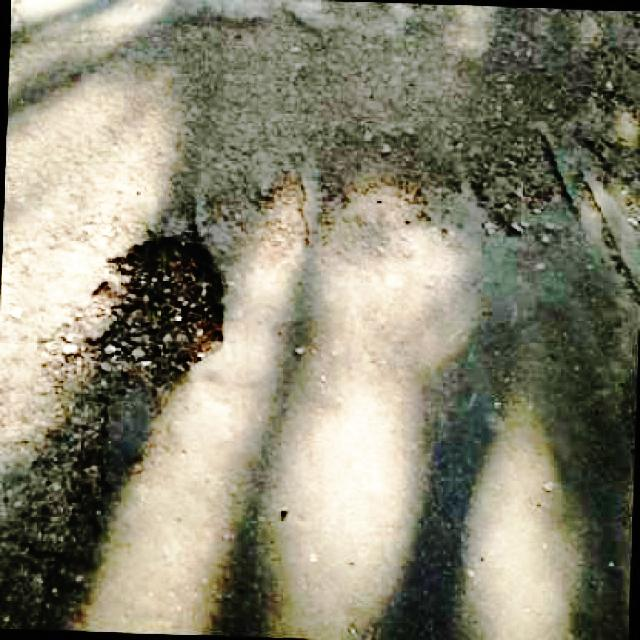pothole: (85, 225, 240, 372)
